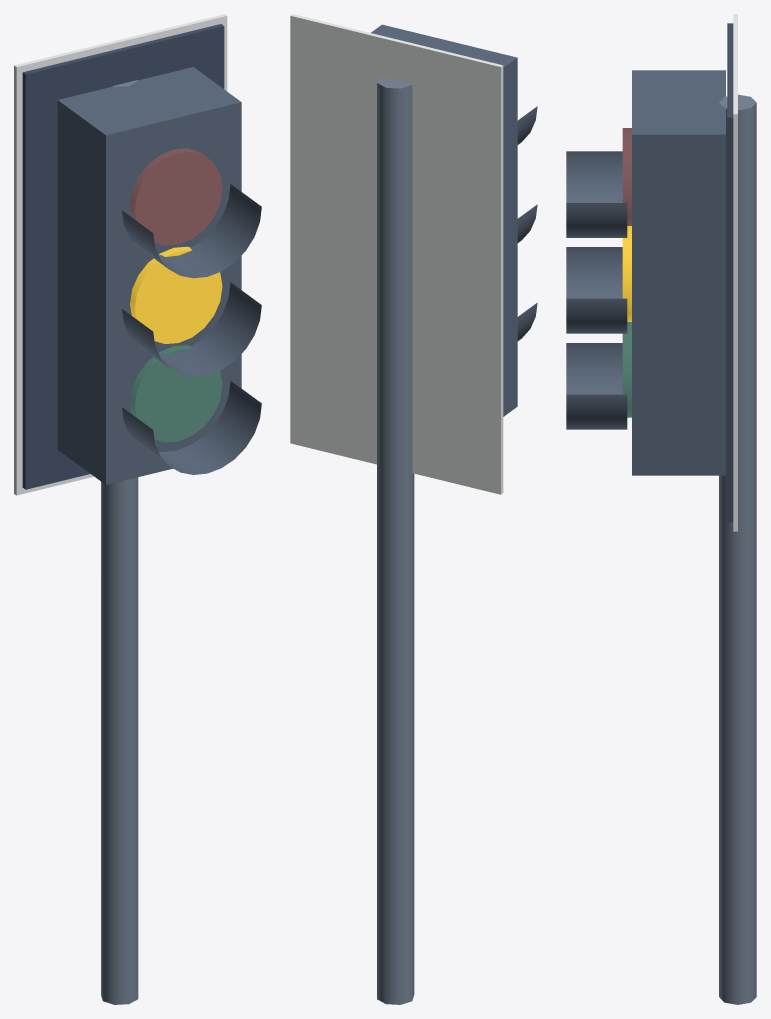
The model's file is light_0.glb.
3 renders of one model, left to right at view 1: azimuth 30°, elevation 25°; view 2: azimuth 150°, elevation 25°; view 3: azimuth 270°, elevation 25°, orthographic. The views are drawn at different scales.
Parts seen in each view (by area): view 1: c1e293b (×2), c111827, c334155, lamp_red:c351719, cf1f5f9, lamp_green:c123126, lamp_yellow:cf59e0b; view 2: cf1f5f9, c334155, c1e293b (×2); view 3: c1e293b (×2), c334155, c111827, cf1f5f9, lamp_red:c351719, lamp_green:c123126, lamp_yellow:cf59e0b.
Part boxes in pixels (box(x1,y1,x2,y2)): c1e293b (×2): box(57, 67, 261, 484); c111827: box(22, 24, 224, 489); c334155: box(101, 80, 138, 1004); lamp_red:c351719: box(130, 148, 222, 245); cf1f5f9: box(14, 14, 227, 495); lamp_green:c123126: box(130, 345, 222, 442); lamp_yellow:cf59e0b: box(130, 246, 222, 343); cf1f5f9: box(290, 14, 503, 494); c334155: box(377, 76, 414, 1004); c1e293b (×2): box(371, 24, 537, 416); c1e293b (×2): box(566, 70, 725, 475); c334155: box(719, 94, 756, 1004); c111827: box(727, 23, 733, 522); cf1f5f9: box(733, 14, 737, 531); lamp_red:c351719: box(622, 128, 631, 225); lamp_green:c123126: box(622, 322, 631, 417); lamp_yellow:cf59e0b: box(622, 226, 631, 321).
Bounding box in the file's own units: 1.01 × 4.38 × 0.81.
